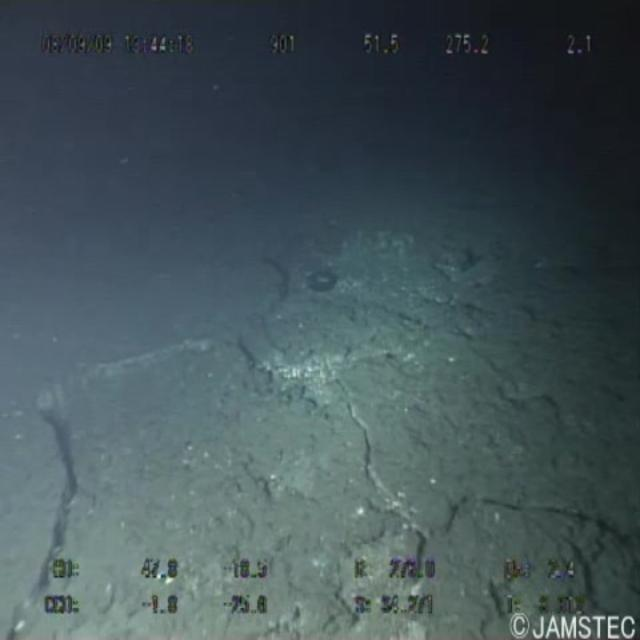Rubber: (294, 249, 356, 308)
